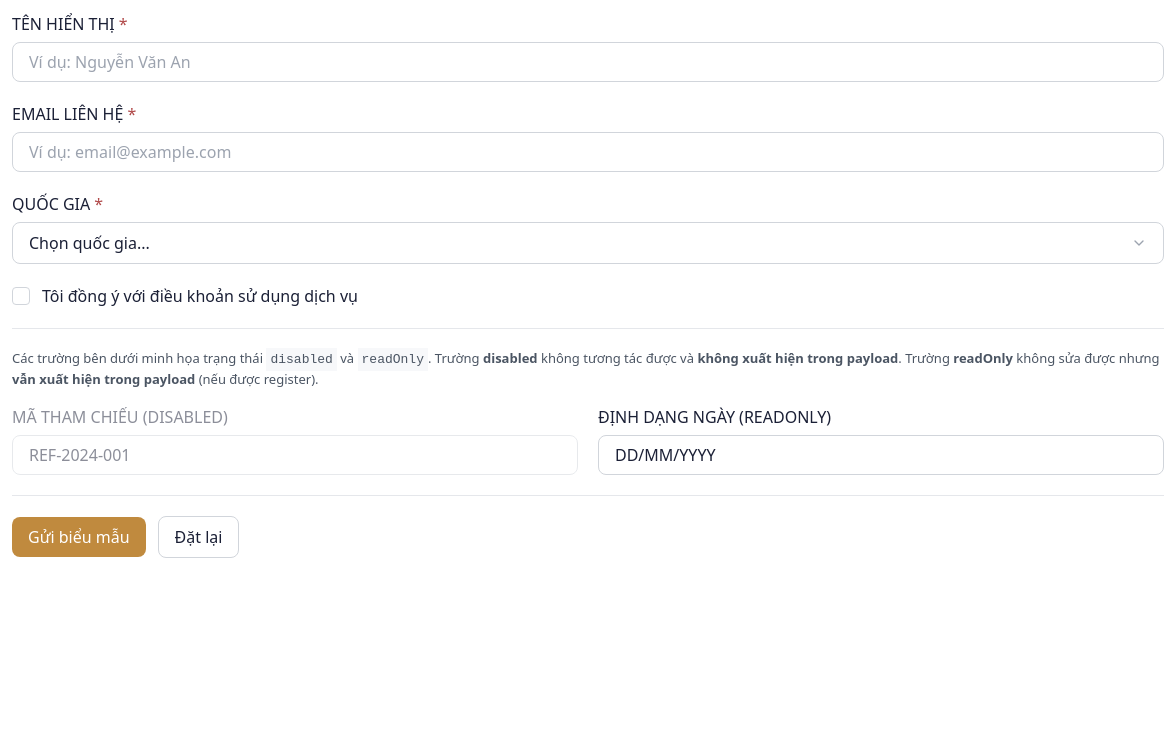
it: FormFoundationDemo › §9.7 country Select — shows required error after blur without selecting
Trigger blur trên combobox trigger (custom desktop Select)
Click the dropdown with test id "combobox-trigger". click: [89, 243]
box: [12,222,1164,264]
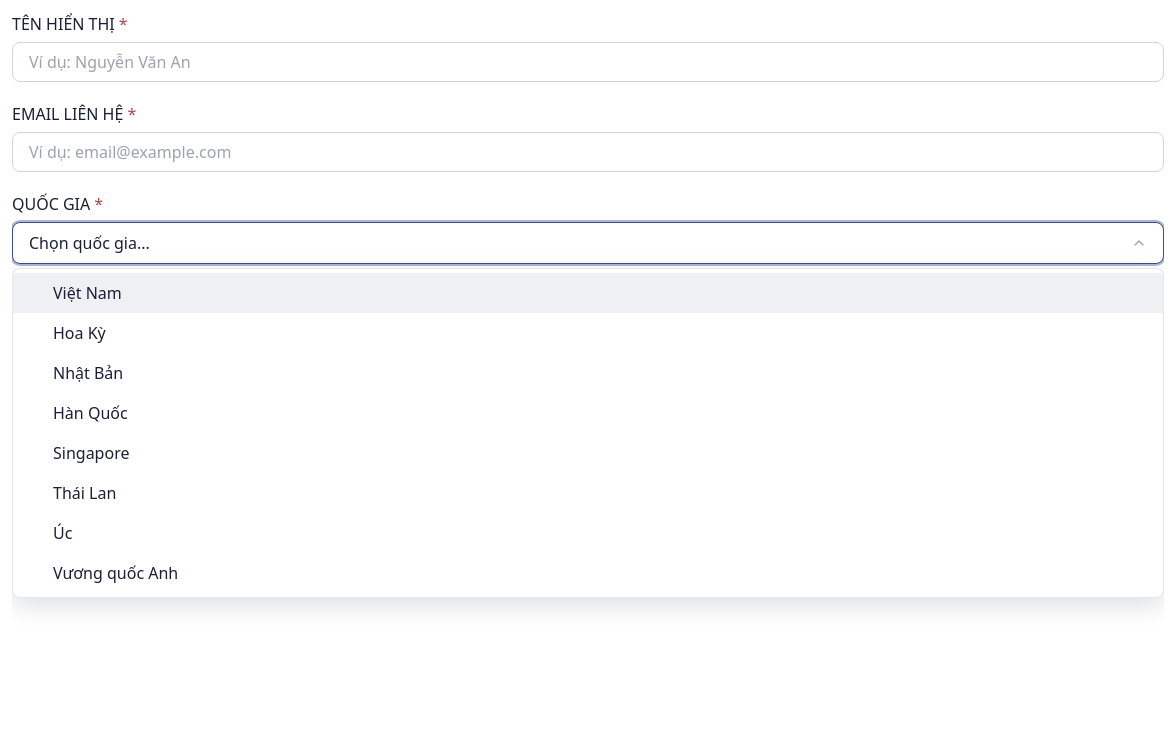
Đóng lại và di chuyển focus ra ngoài để kích blur
Type keys "[Escape]"
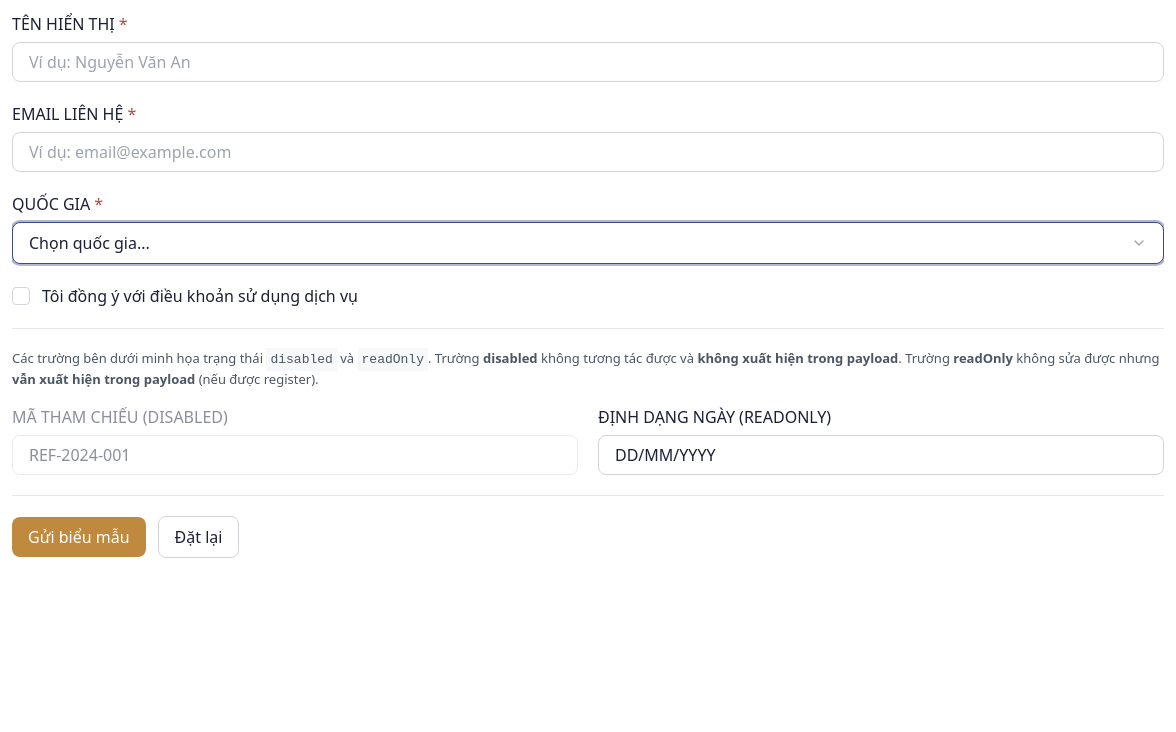
Press Tab
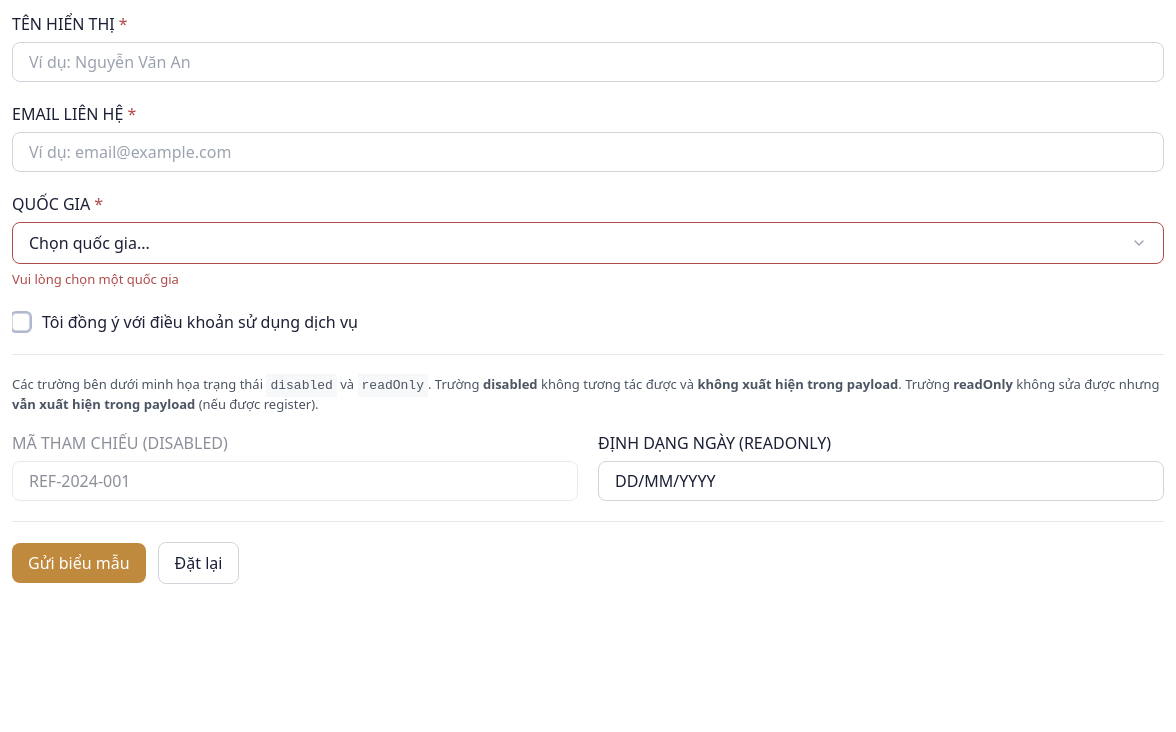
Expected: the text "Vui lòng chọn một quốc gia" is shown, [12,270,179,288]
